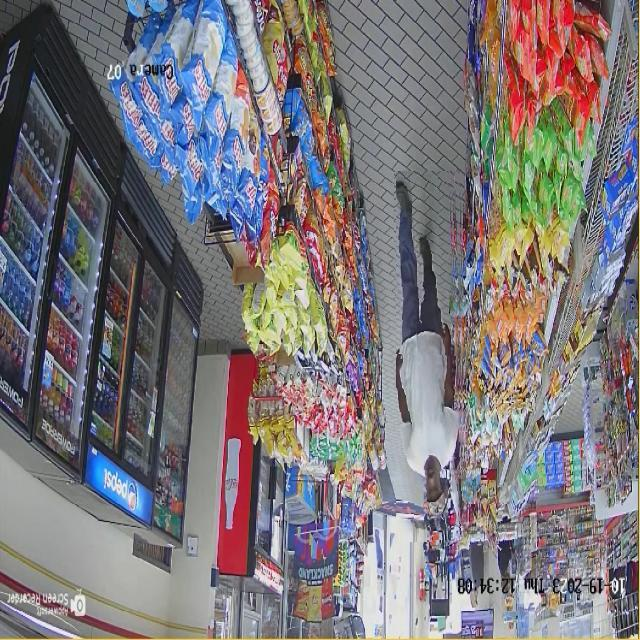Normal: (396, 171, 466, 542)
